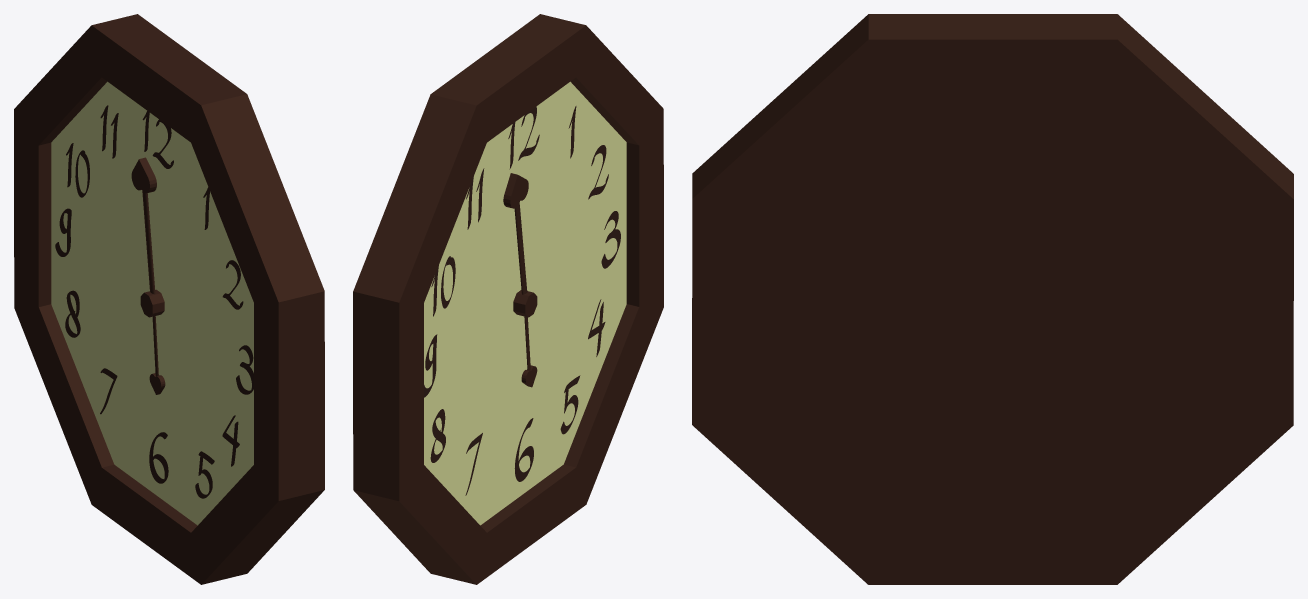
3 views of the same model, side by side, from view 1: azimuth 30°, elevation 25°; view 2: azimuth 150°, elevation 25°; view 3: azimuth 270°, elevation 25° (orthographic). The views are drawn at different scales.
Parts seen in each view (by area): view 1: Cylinder, Cylinder.001, Cube, Cylinder.002, Cylinder.003, Text.010, Text.001, Text.008, Text.009; view 2: Cylinder, Cylinder.001, Cube, Cylinder.002, Cylinder.003, Text.010, Text.009, Text.001, Text.008, Text.003; view 3: Cylinder.
Boxes of the visible parts, x1,y1,x2,y2 form: Cylinder: (14,14,324,584); Cylinder.001: (51,81,253,525); Cube: (131,157,156,193); Cylinder.002: (142,190,155,294); Cylinder.003: (140,289,164,317); Text.010: (66,143,89,197); Text.001: (149,432,168,483); Text.008: (65,290,80,337); Text.009: (142,111,173,168); Cylinder: (353,14,663,584); Cylinder.001: (424,81,626,525); Cube: (503,173,528,208); Cylinder.002: (514,203,527,294); Cylinder.003: (513,290,537,317); Text.010: (431,256,455,316); Text.009: (508,106,539,169); Text.001: (514,418,533,481); Text.008: (430,409,445,462); Text.003: (601,211,620,268); Cylinder: (692,14,1293,584).
Bounding box in the file's own units: 18.61 × 185 × 185.
